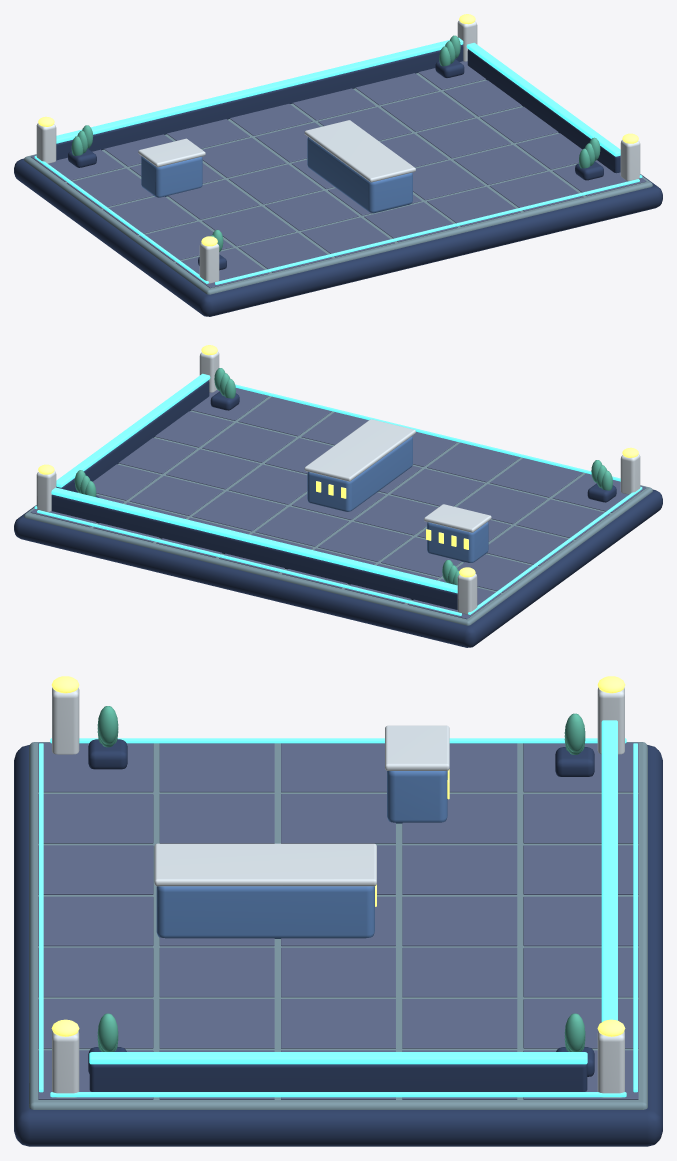
The model's file is reactor.glb.
The picture shows the model from 3 angles, top to bottom: view 1: azimuth 30°, elevation 25°; view 2: azimuth 150°, elevation 25°; view 3: azimuth 270°, elevation 25°; orthographic projection. The views are drawn at different scales.
Parts seen in each view (by area): view 1: Floating foundation, Arena floor, Reflector base, Cover cap, Cover, Reflector beam, Reflector base.001, Floor panel.027, Floor panel.013, Floor panel.026, Floor panel.012, Floor panel.028 (+36 smaller); view 2: Floating foundation, Arena floor, Reflector base, Reflector beam, Cover cap, Cover, Reflector base.001, Floor panel.027, Floor panel.011, Floor panel.016, Floor panel.021, Floor panel.028 (+37 smaller); view 3: Floating foundation, Arena floor, Reflector base.001, Cover, Cover cap, Reflector beam.001, Floor panel.016, Floor panel.021, Floor panel.023, Floor panel.022, Floor panel.008, Floor panel.011 (+38 smaller).
Part boxes in pixels (x1,y1,x2,y2): Floating foundation: [14, 158, 662, 316]; Arena floor: [24, 73, 652, 294]; Reflector base: [56, 44, 463, 160]; Cover cap: [304, 120, 415, 182]; Cover: [307, 137, 412, 213]; Reflector beam: [56, 37, 463, 143]; Reflector base.001: [467, 49, 620, 173]; Floor panel.027: [417, 118, 510, 158]; Floor panel.013: [265, 191, 358, 230]; Floor panel.026: [381, 91, 474, 131]; Floor panel.012: [229, 164, 322, 204]; Floor panel.028: [453, 145, 547, 184]; Floating foundation: [14, 489, 662, 647]; Arena floor: [24, 396, 652, 625]; Reflector base: [51, 494, 457, 609]; Reflector beam: [51, 487, 457, 593]; Cover cap: [304, 419, 415, 481]; Cover: [307, 436, 412, 511]; Reflector base.001: [56, 380, 209, 492]; Floor panel.027: [166, 449, 259, 489]; Floor panel.011: [318, 522, 411, 561]; Floor panel.016: [255, 506, 348, 546]; Floor panel.021: [192, 491, 285, 531]; Floor panel.028: [202, 422, 295, 462]; Floating foundation: [14, 745, 662, 1146]; Arena floor: [29, 742, 647, 1109]; Reflector base.001: [89, 1064, 587, 1091]; Cover: [156, 886, 374, 938]; Cover cap: [154, 843, 376, 886]; Reflector beam.001: [89, 1052, 587, 1064]; Floor panel.016: [402, 896, 517, 946]; Floor panel.021: [402, 947, 517, 997]; Floor panel.023: [159, 947, 274, 997]; Floor panel.022: [281, 947, 395, 997]; Floor panel.008: [159, 794, 274, 843]; Floor panel.011: [402, 845, 517, 894].
Bounding box in the file's own units: 14.7 × 2.06 × 10.7.
